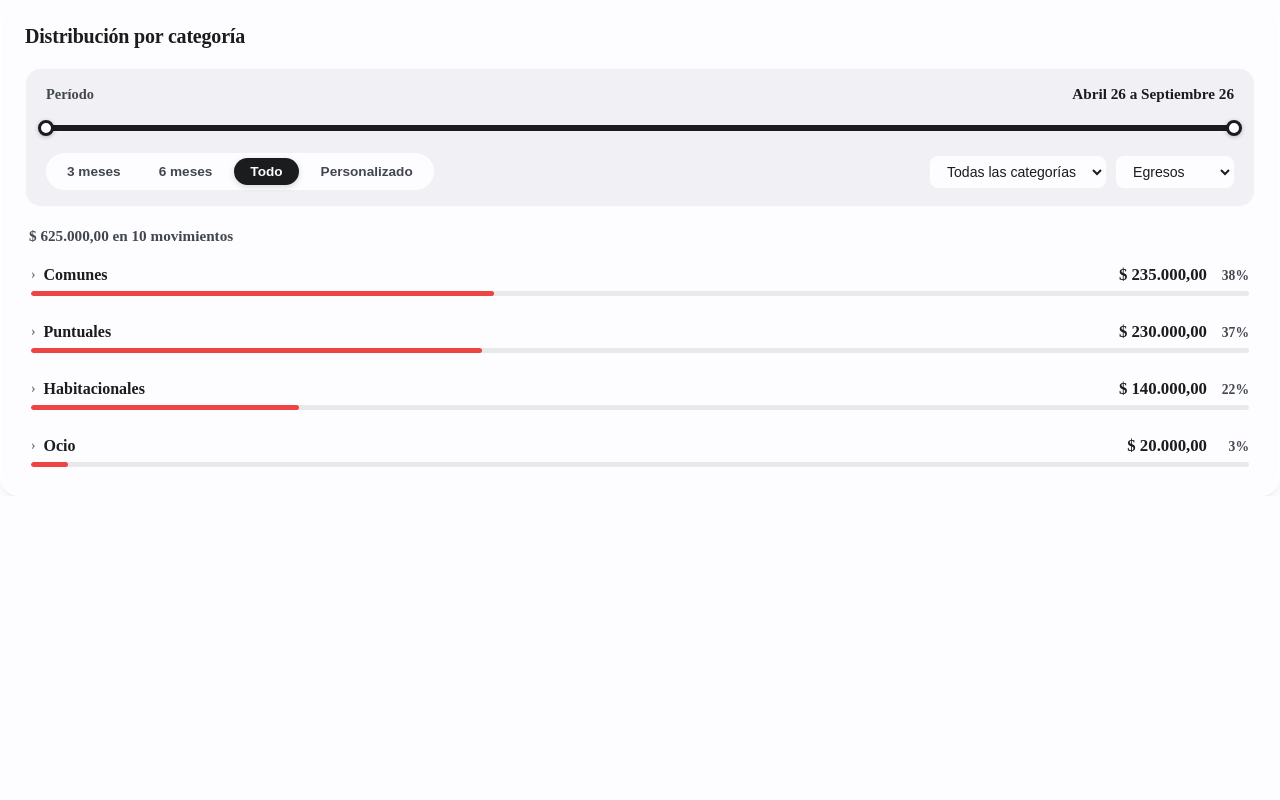
Test case: New Análisis Tab Features › 3. Category Distribution Card (matching reference image) › supports custom date range via Personalizado button
Click the button "Personalizado" at (367, 172), box [305,158,429,185]
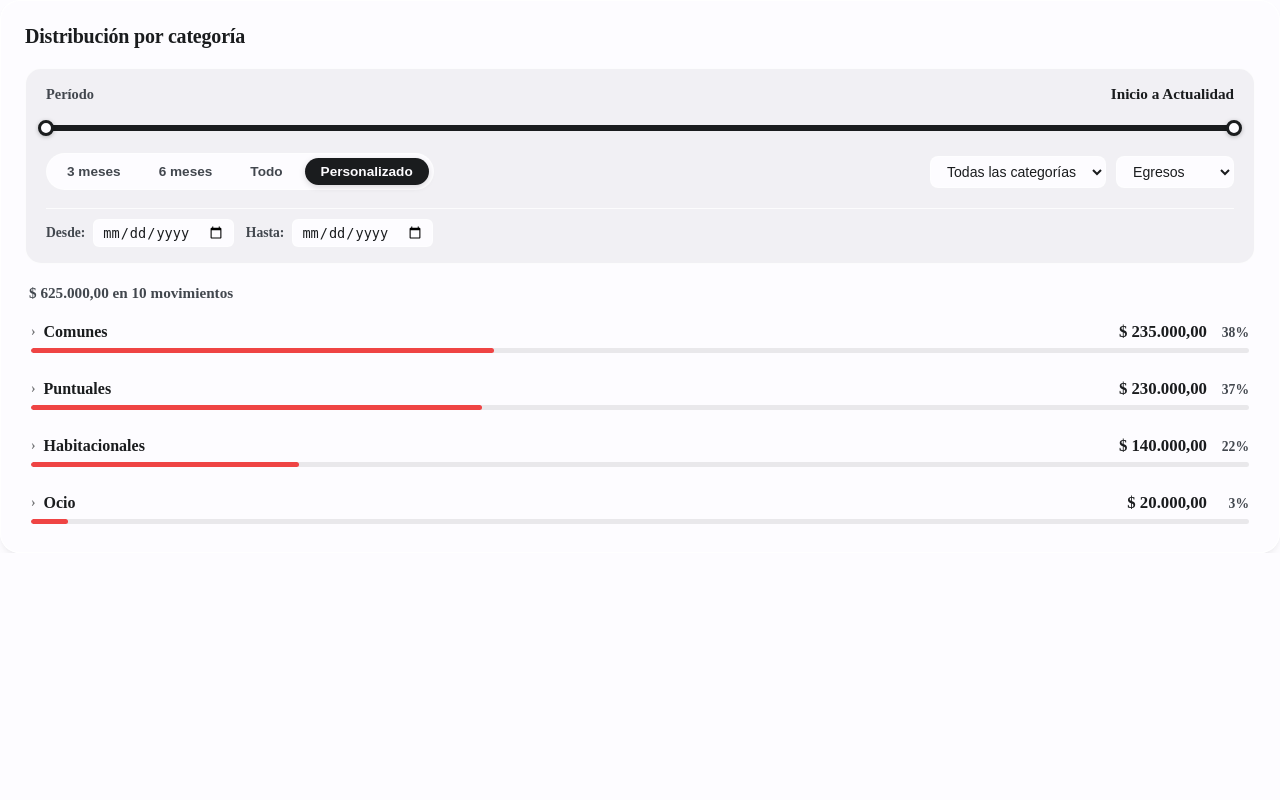
Expected: the date field labelled "Desde:" is shown
Expected: the date field labelled "Hasta:" is shown, [292,219,433,247]
Set custom range for Mayo only: 2026-05-01 to 2026-05-31
Type "2026-05-01" into the date field labelled "Desde:" at (164, 233), box [93,219,234,247]
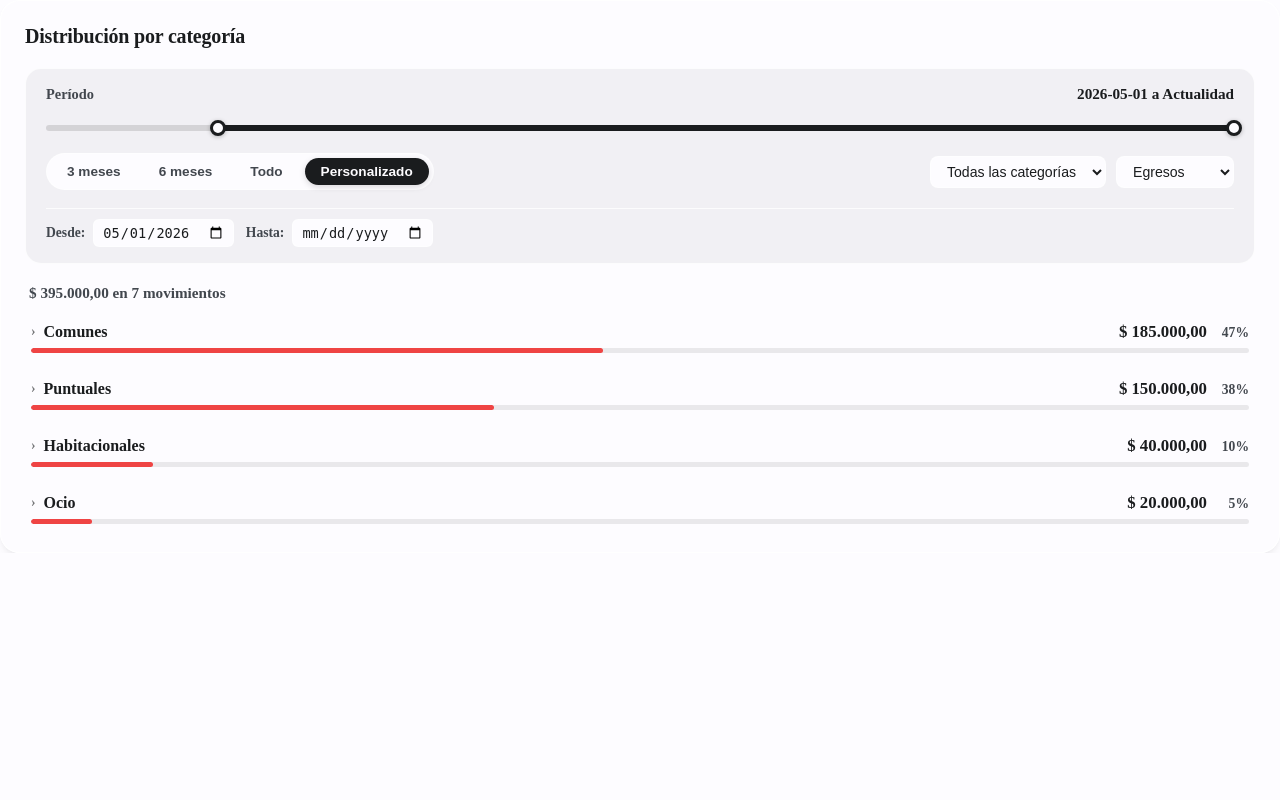
Type "2026-05-31" into the date field labelled "Hasta:" at (363, 233), box [292,219,433,247]
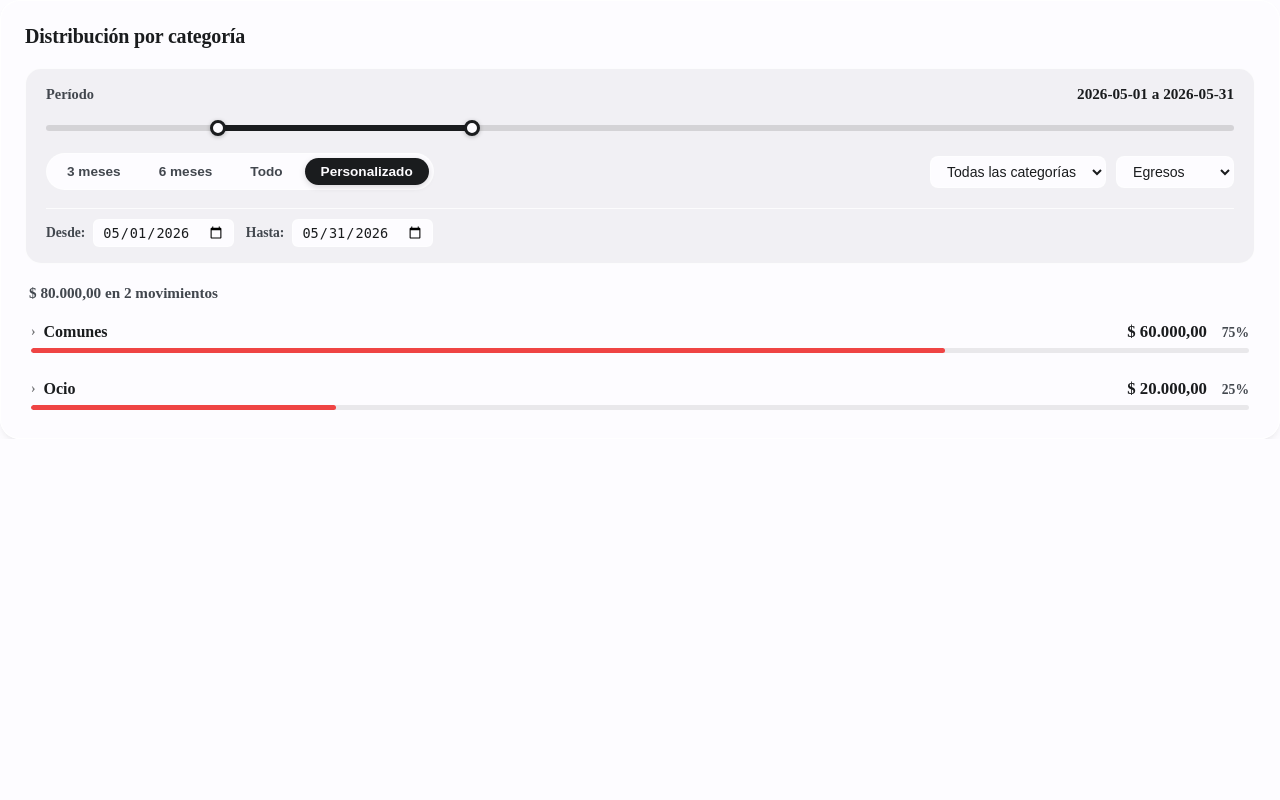
Expected: the element with test id "card-distribucion-categoria" shows "$ 80.000,00 en 2 movimientos", [0,0,1279,439]
